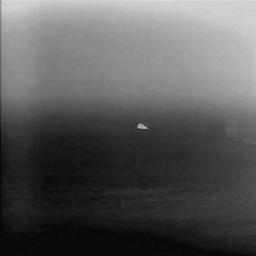Target: (135, 122, 149, 130)
